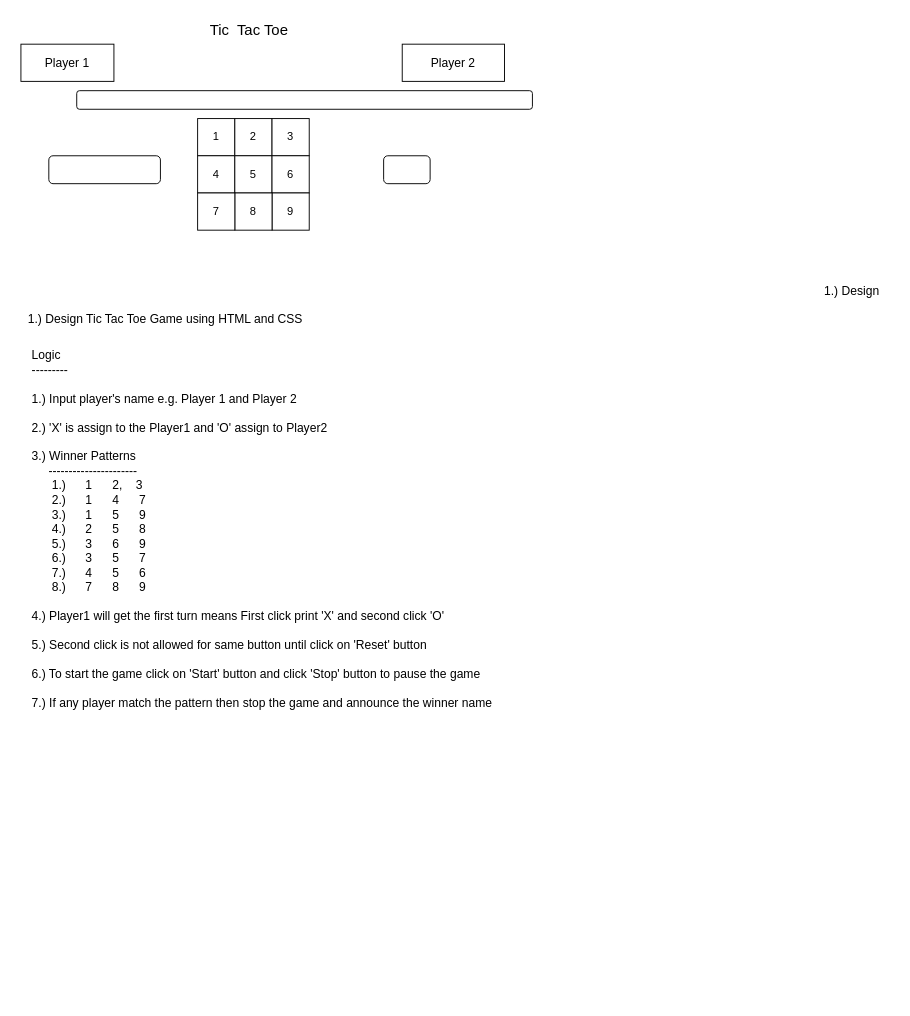
Some shapes in this 910 by 1016 pixel diagram are drawn without their labels. Here are the shapes that lost their labels. From the top down, the centre of each, then its label:
At point 304,99: "Notification".
At point 104,169: "Start/Stop/Resume".
At point 406,169: "Reset".
